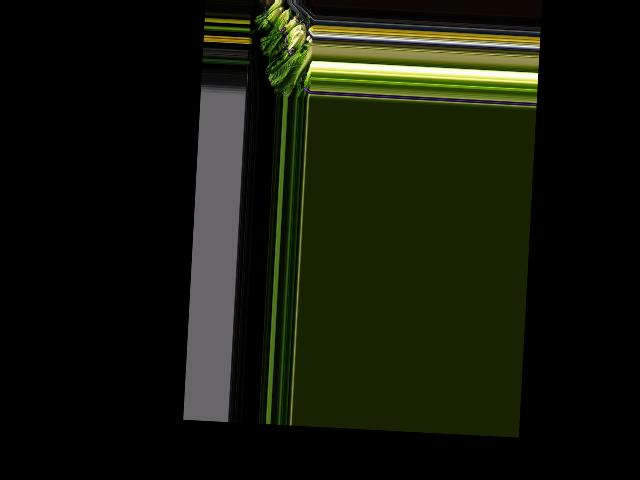lettuce: (269, 41, 310, 97)
